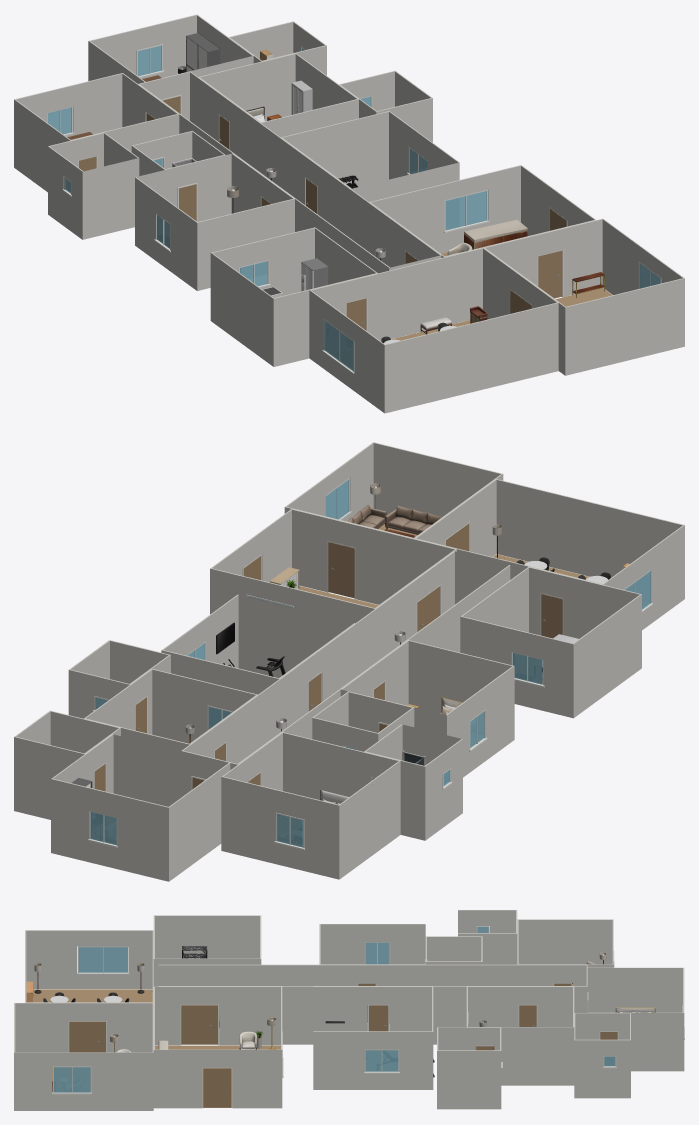
Rendered from scenesmith_30.glb.
3 renders of one model, top to bottom at view 1: azimuth 30°, elevation 25°; view 2: azimuth 150°, elevation 25°; view 3: azimuth 270°, elevation 25°, orthographic. The views are drawn at different scales.
Parts seen in each view (by area): view 1: scene_209_bathroom_2_east_wall, scene_209_bathroom_2_north_wall Window 0 | glazing, scene_209_bathroom_2_west_wall Door 0 | wood leaf, furniture_group, scene_209_bathroom_2_north_wall Window 0 | jamb, floor|scene_209_bedroom, P_4c0928bed87dcf34.001; view 2: scene_209_bathroom_2_east_wall, scene_209_bathroom_2_west_wall Door 0 | wood leaf, furniture_group, scene_209_bathroom_2_north_wall Window 0 | glazing, scene_209_bathroom_2_north_wall Window 0 | jamb, floor|scene_209_bedroom; view 3: scene_209_bathroom_2_east_wall, scene_209_bathroom_2_west_wall Door 0 | wood leaf, scene_209_bathroom_2_north_wall Window 0 | glazing, scene_209_bathroom_2_north_wall Window 0 | jamb, furniture_group, floor|scene_209_bedroom.
Part boxes in pixels (box(x1,y1,x2,y2)): scene_209_bathroom_2_east_wall: box(14, 14, 684, 413); scene_209_bathroom_2_north_wall Window 0 | glazing: box(48, 45, 660, 370); scene_209_bathroom_2_west_wall Door 0 | wood leaf: box(79, 96, 566, 330); furniture_group: box(172, 66, 604, 344); scene_209_bathroom_2_north_wall Window 0 | jamb: box(47, 44, 661, 373); floor|scene_209_bedroom: box(391, 252, 612, 340); P_4c0928bed87dcf34.001: box(186, 33, 220, 71); scene_209_bathroom_2_east_wall: box(14, 442, 684, 881); scene_209_bathroom_2_west_wall Door 0 | wood leaf: box(94, 523, 562, 791); furniture_group: box(185, 483, 610, 804); scene_209_bathroom_2_north_wall Window 0 | glazing: box(90, 479, 650, 847); scene_209_bathroom_2_north_wall Window 0 | jamb: box(88, 478, 653, 850); floor|scene_209_bedroom: box(299, 524, 589, 683); scene_209_bathroom_2_east_wall: box(14, 910, 684, 1110); scene_209_bathroom_2_west_wall Door 0 | wood leaf: box(69, 983, 617, 1107); scene_209_bathroom_2_north_wall Window 0 | glazing: box(54, 926, 615, 1092); scene_209_bathroom_2_north_wall Window 0 | jamb: box(52, 926, 684, 1108); furniture_group: box(34, 946, 655, 1091); floor|scene_209_bedroom: box(26, 984, 599, 1107).
Bounding box in the file's own units: 15.85 × 3.12 × 31.28.
139 materials, 87 textured.
